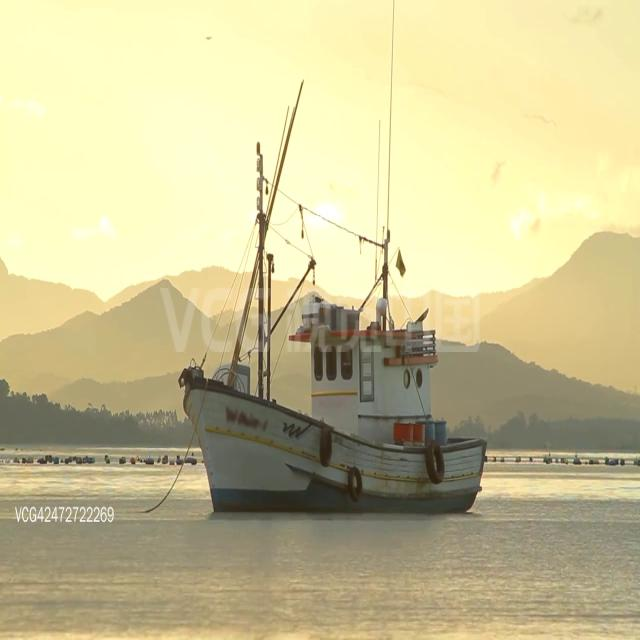fishing boat: (172, 152, 488, 512)
